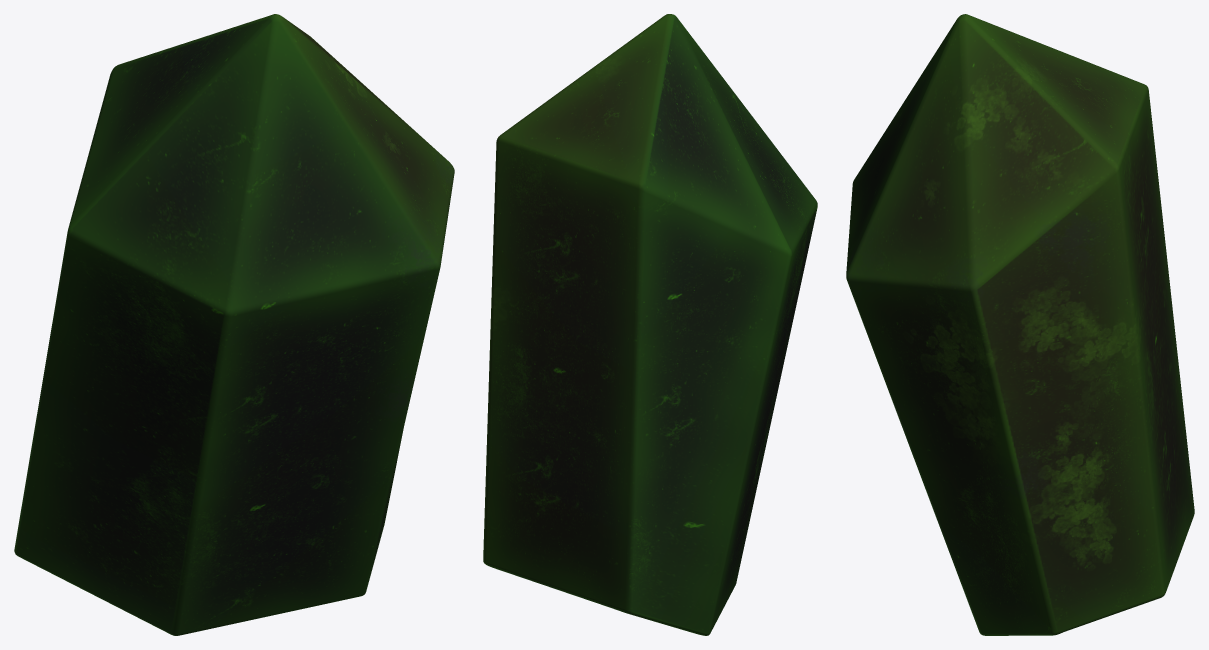
File: Crystal.obj
3 views of the same model, side by side, from view 1: azimuth 30°, elevation 25°; view 2: azimuth 150°, elevation 25°; view 3: azimuth 270°, elevation 25° (orthographic). The views are drawn at different scales.
Parts seen in each view (by area): view 1: Crystal; view 2: Crystal; view 3: Crystal.
Part boxes in pixels (box(x1,y1,x2,y2)): Crystal: box(14, 14, 454, 635); Crystal: box(483, 14, 817, 635); Crystal: box(846, 14, 1194, 635).
Size of the model in its own units: 0.9032 by 1.49 by 0.8148.
1 material, 1 textured.
